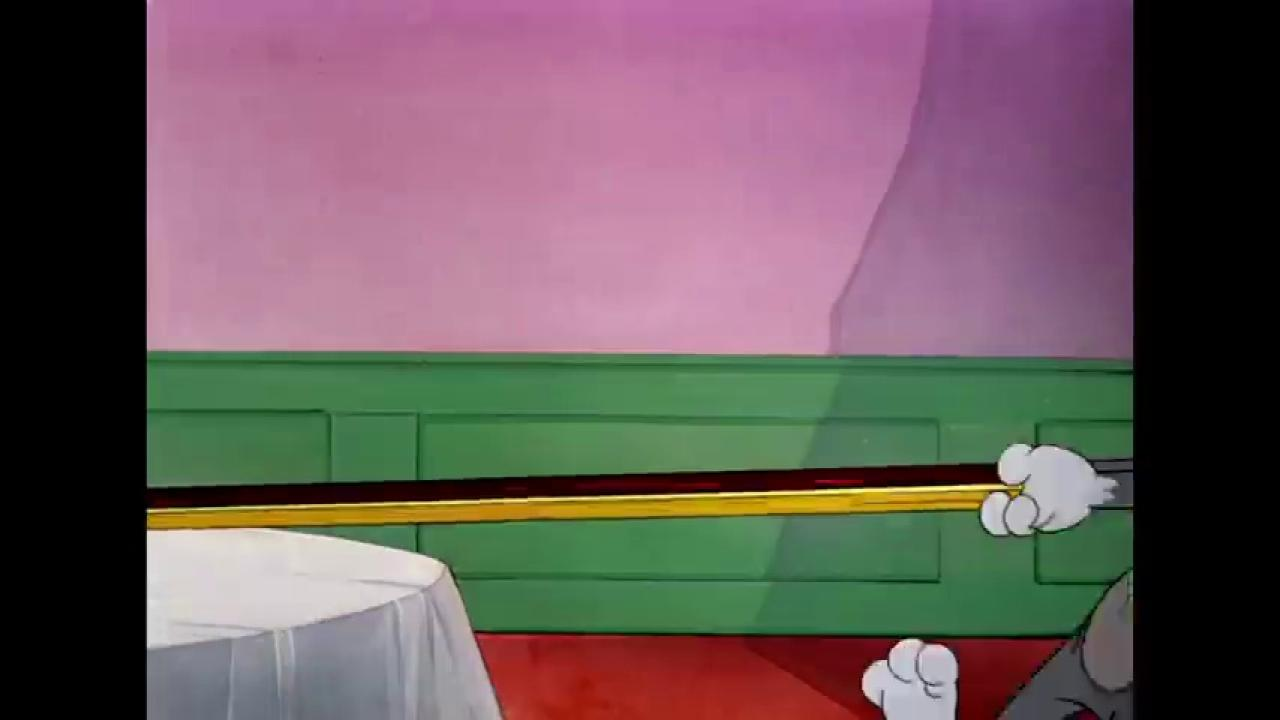Tom: (860, 438, 1133, 720)
